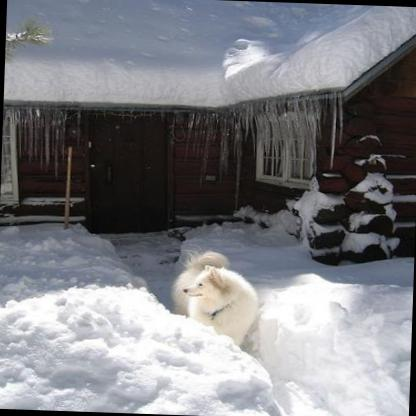Samoyed: (166, 250, 256, 346)
